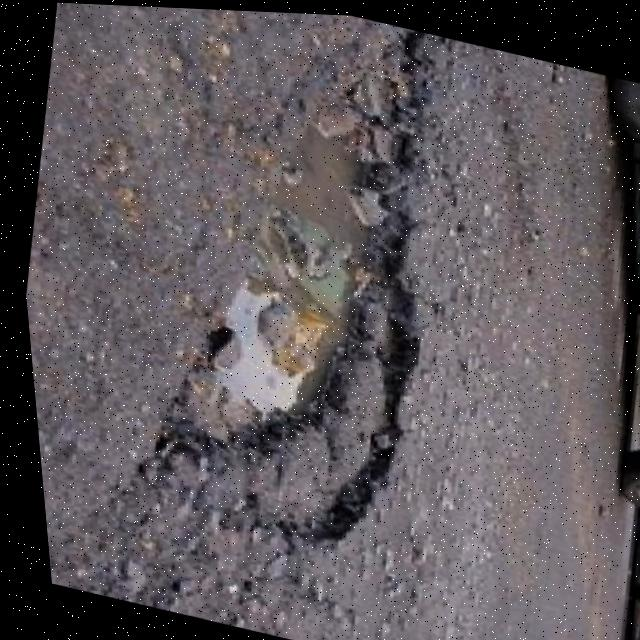Pothole: (67, 2, 532, 615)
